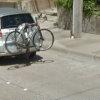Bicycle: (5, 16, 79, 68)
